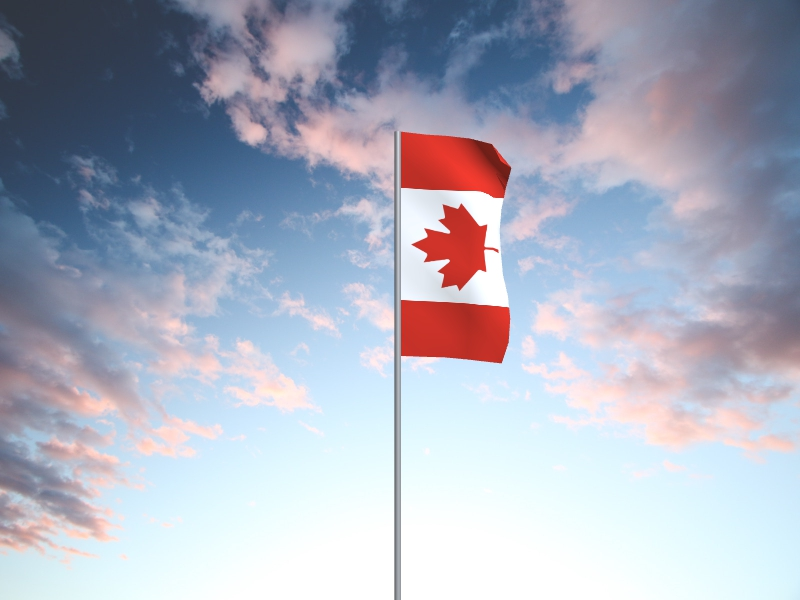ca: (402, 132, 513, 365)
